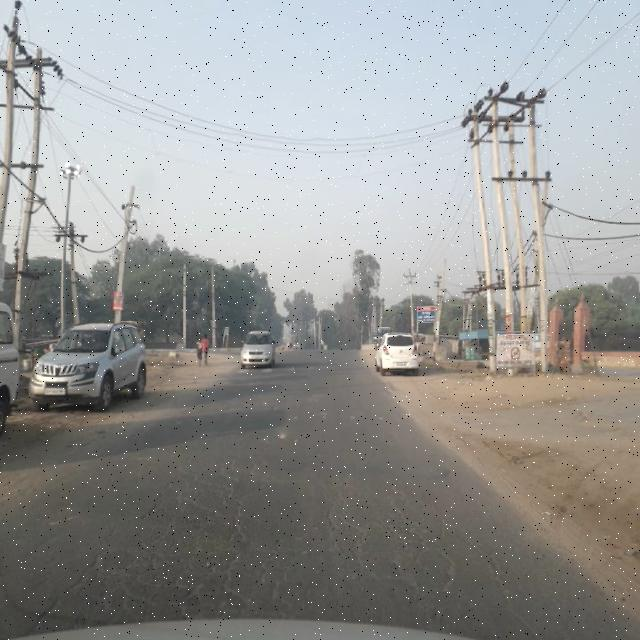D20: (44, 433, 490, 621)
